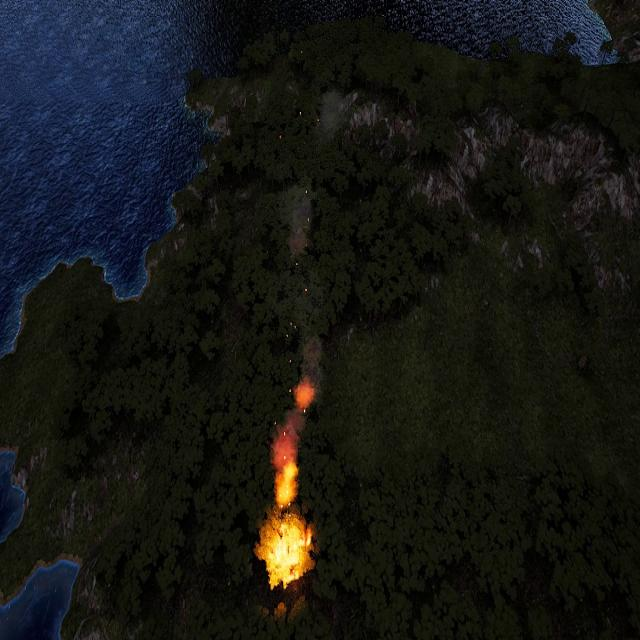fire: (263, 522, 310, 588), (272, 413, 301, 508), (294, 377, 317, 412)
smoke: (287, 192, 313, 256)
